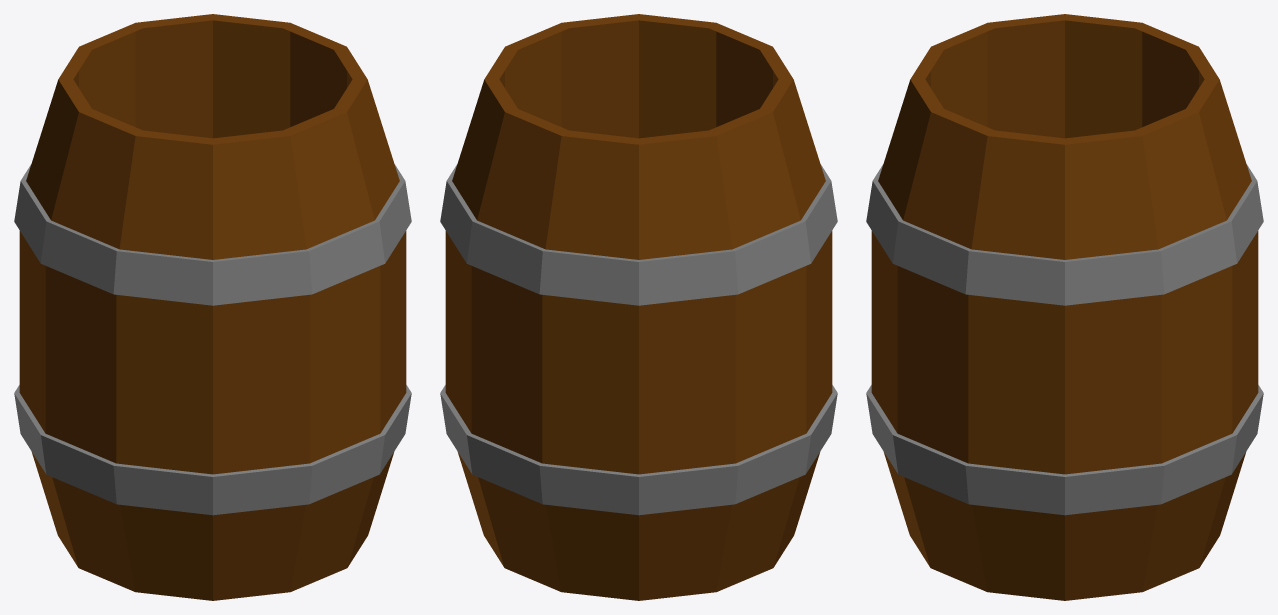
File: low_poly_barrel.glb
3 renders of one model, left to right at view 1: azimuth 30°, elevation 25°; view 2: azimuth 150°, elevation 25°; view 3: azimuth 270°, elevation 25°, orthographic.
Visible parts, largest first — view 1: Cylinder_2; view 2: Cylinder_2; view 3: Cylinder_2.
Boxes of the visible parts, <box> form: Cylinder_2: <box>14,14,411,600</box>; Cylinder_2: <box>440,14,837,600</box>; Cylinder_2: <box>866,14,1263,600</box>.
Bounding box in the file's own units: 2.06 × 2.6 × 2.06.
